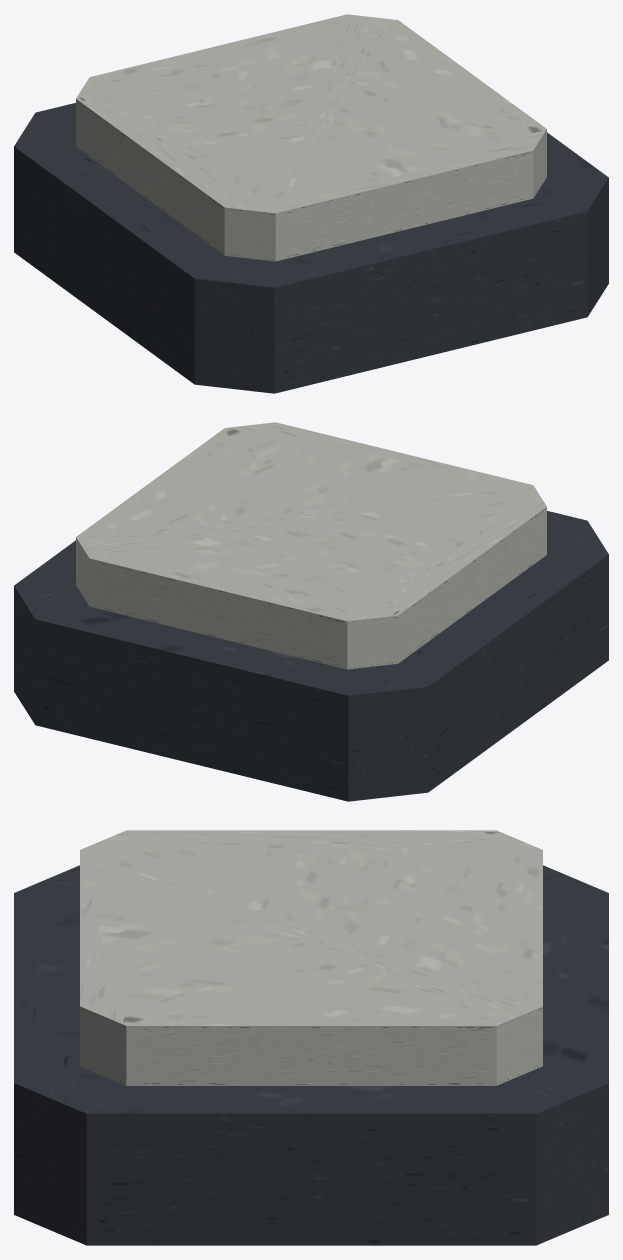
The model's file is RingFoot.fbx.
3 renders of one model, top to bottom at view 1: azimuth 30°, elevation 25°; view 2: azimuth 150°, elevation 25°; view 3: azimuth 270°, elevation 25°, orthographic. The views are drawn at different scales.
Parts seen in each view (by area): view 1: RingFoot; view 2: RingFoot; view 3: RingFoot.
Boxes of the visible parts, left/top/right/bottom form: RingFoot: left=14, top=14, right=608, bottom=393; RingFoot: left=14, top=422, right=608, bottom=801; RingFoot: left=14, top=830, right=608, bottom=1245.
Bounding box in the file's own units: 900 × 320 × 900.
